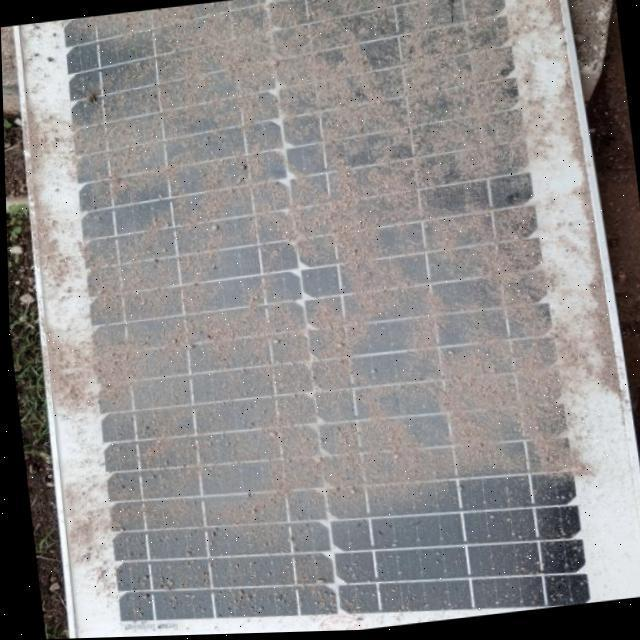Surface Contaminant: (30, 0, 616, 599)
